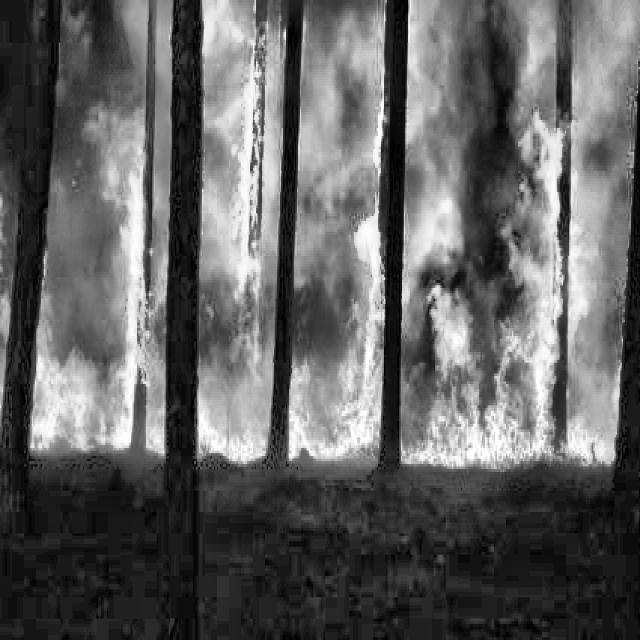fire: (9, 75, 612, 493)
